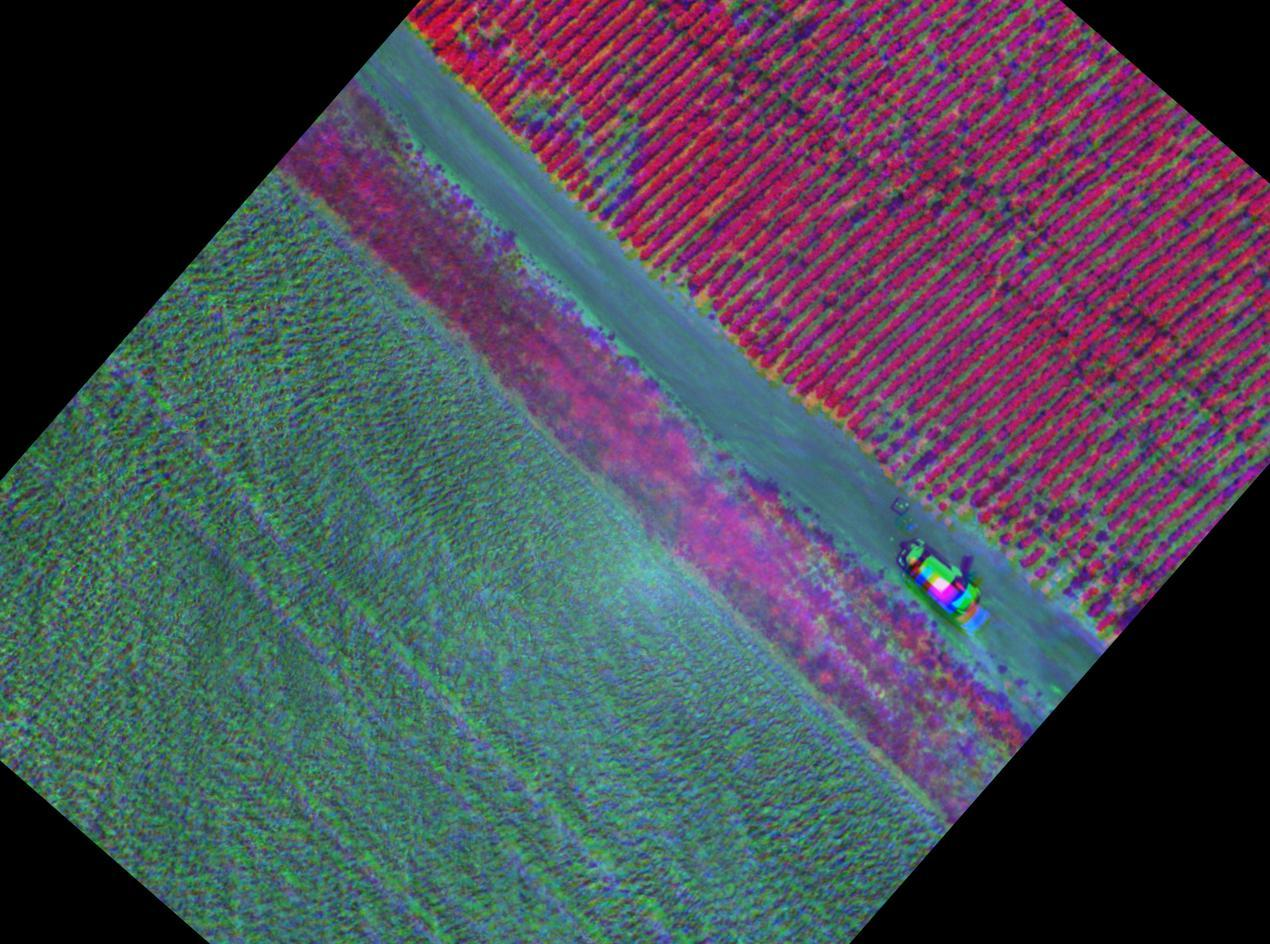dc: (978, 491, 1074, 561), (577, 110, 640, 205), (857, 399, 933, 477), (506, 59, 573, 142), (1169, 394, 1220, 455)
